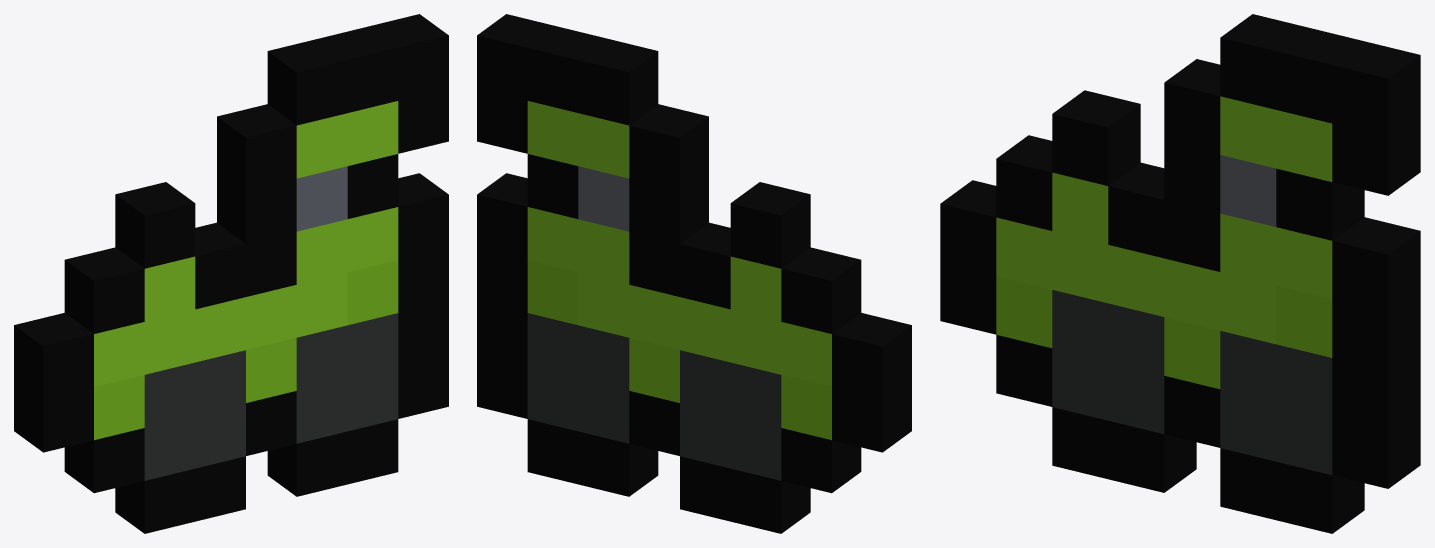
File: Lime Kart Item.glb
3 renders of one model, left to right at view 1: azimuth 30°, elevation 25°; view 2: azimuth 150°, elevation 25°; view 3: azimuth 330°, elevation 25°, orthographic. The views are drawn at different scales.
Visible parts, largest first — view 1: generated(Clone); view 2: generated(Clone); view 3: generated(Clone).
Boxes of the visible parts, left/top/right/bottom form: generated(Clone): left=14, top=14, right=448, bottom=533; generated(Clone): left=477, top=14, right=911, bottom=533; generated(Clone): left=940, top=14, right=1420, bottom=533.
Size of the model in its own units: 8 by 8 by 1.
Materials: 1 (1 with a texture image).
